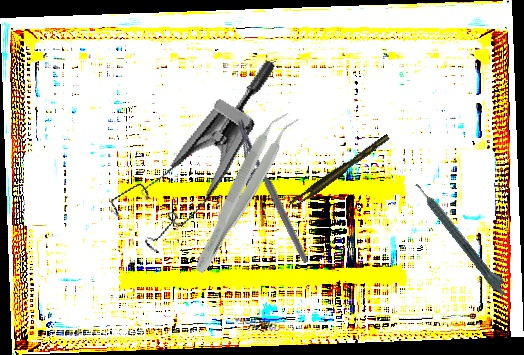Handpiece: (412, 177, 513, 299)
Needle Holder: (217, 118, 310, 273)
Speculum: (98, 25, 279, 270)
Tissue Forceps: (187, 105, 302, 281), (286, 134, 394, 209)
